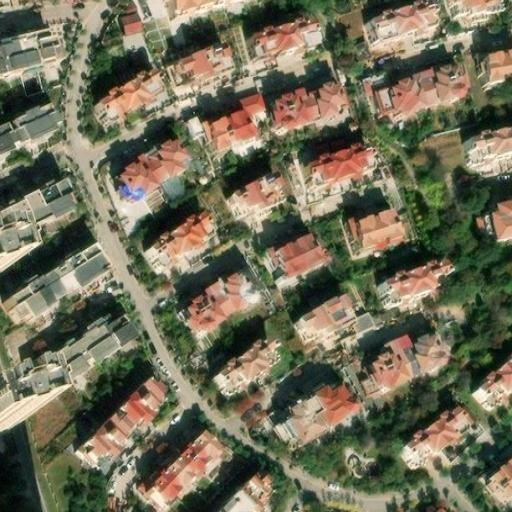building: (32, 320, 147, 410), (77, 391, 171, 484), (18, 260, 110, 334), (279, 386, 366, 461), (374, 67, 474, 132), (0, 186, 88, 258), (145, 439, 228, 512), (370, 332, 454, 404), (181, 280, 260, 349), (263, 85, 354, 138), (401, 415, 473, 479), (0, 102, 69, 168), (93, 81, 166, 139), (118, 151, 187, 211), (0, 24, 67, 84), (152, 225, 218, 282), (296, 299, 364, 352), (221, 348, 284, 405), (202, 111, 259, 167), (375, 11, 444, 54), (231, 181, 291, 230), (255, 22, 322, 65), (386, 268, 451, 312), (306, 152, 372, 195), (180, 49, 240, 96), (348, 214, 410, 257), (273, 237, 326, 286), (453, 0, 508, 28), (481, 372, 512, 418), (472, 134, 512, 169), (233, 486, 278, 512), (486, 214, 512, 256), (483, 60, 512, 96), (489, 471, 512, 512), (114, 7, 144, 38)
